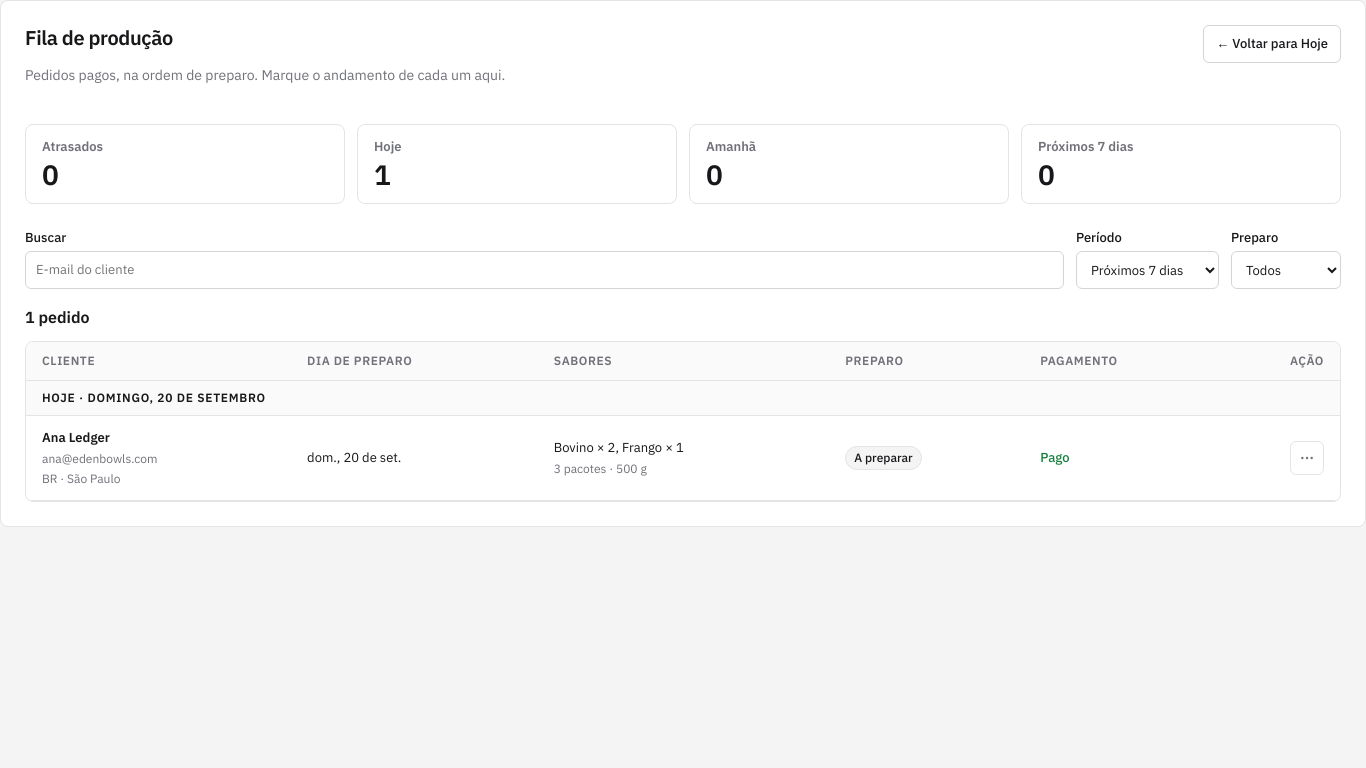
Test: ProductionQueuePage › hides status actions for readonly users
Expected: the text "ana@edenbowls.com" is shown, x1=42 y1=450 x2=158 y2=468
Click the button named "Mais opções para Ana Ledger" at (1307, 458), box x1=1290 y1=441 x2=1324 y2=475
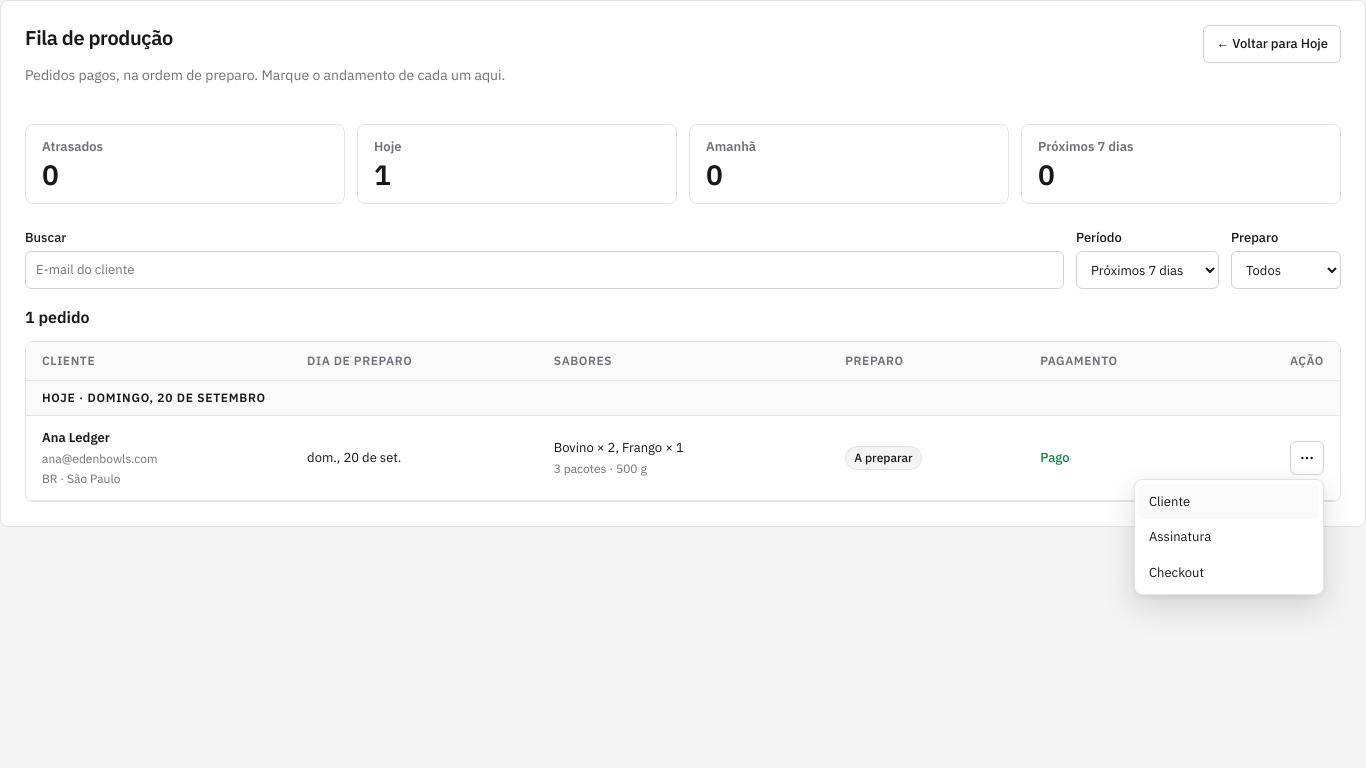
Result: the menu item "Assinatura" is shown at x1=1149 y1=528 x2=1211 y2=545
